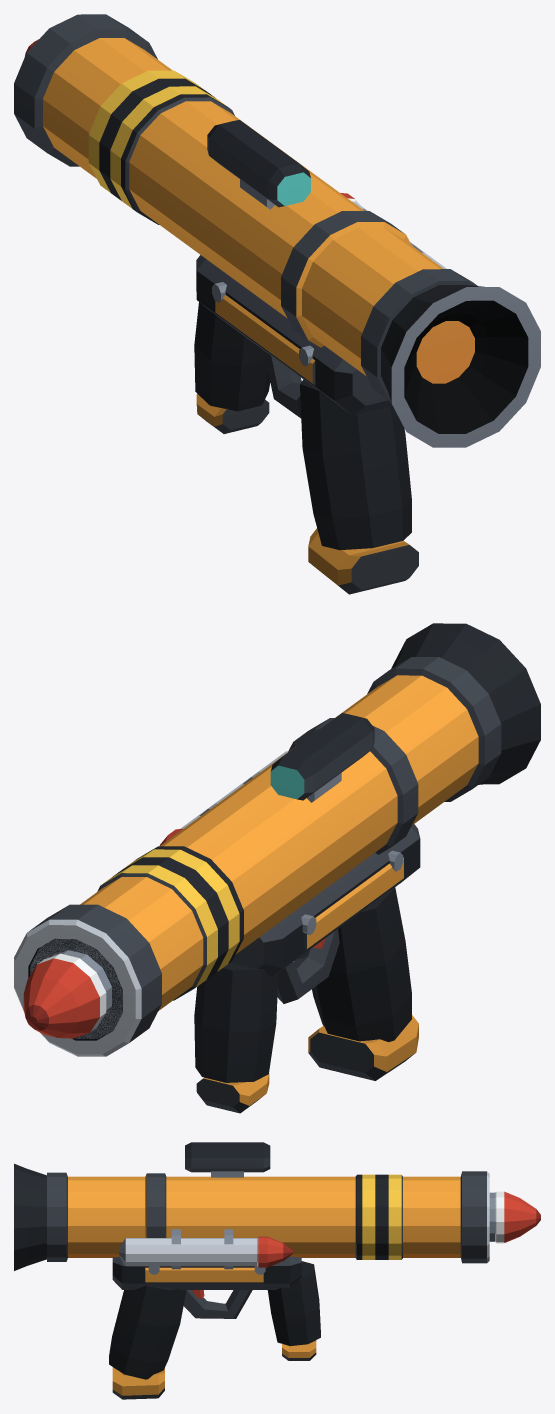
The model's file is RocketLauncher.fbx.
3 renders of one model, top to bottom at view 1: azimuth 30°, elevation 25°; view 2: azimuth 150°, elevation 25°; view 3: azimuth 270°, elevation 25°, orthographic. The views are drawn at different scales.
Visible parts, largest first — view 1: LaunchTube, Exhaust, Grip, ForeGrip, Body, Sight, GripHeel, SidePlate, Guard; view 2: LaunchTube, ForeGrip, Grip, Exhaust, Mouth, Warhead, Body, Sight, GripHeel, SidePlate, Guard; view 3: LaunchTube, Grip, SpareRocket, ForeGrip, Exhaust, Body, Sight, Warhead, SidePlate, Guard, GripHeel, SpareClamps.
Boxes of the visible parts, x1,y1,x2,y2 form: LaunchTube: [14, 14, 477, 401]; Exhaust: [381, 285, 540, 447]; Grip: [300, 379, 411, 550]; ForeGrip: [194, 302, 270, 433]; Body: [196, 255, 392, 415]; Sight: [207, 120, 310, 207]; GripHeel: [308, 528, 418, 594]; SidePlate: [215, 295, 315, 385]; Guard: [263, 350, 301, 418]; LaunchTube: [27, 657, 501, 1042]; ForeGrip: [194, 962, 278, 1113]; Grip: [312, 886, 411, 1042]; Exhaust: [391, 623, 540, 784]; Mouth: [14, 919, 141, 1056]; Warhead: [23, 950, 111, 1038]; Body: [230, 824, 420, 977]; Sight: [270, 713, 374, 800]; GripHeel: [308, 1015, 418, 1080]; SidePlate: [304, 858, 403, 950]; Guard: [277, 929, 339, 1003]; LaunchTube: [47, 1171, 486, 1263]; Grip: [109, 1285, 186, 1379]; SpareRocket: [119, 1236, 292, 1267]; ForeGrip: [267, 1261, 320, 1360]; Exhaust: [14, 1163, 46, 1270]; Body: [112, 1256, 301, 1289]; Sight: [185, 1142, 270, 1172]; Warhead: [489, 1191, 540, 1243]; SidePlate: [145, 1267, 263, 1283]; Guard: [183, 1290, 252, 1318]; GripHeel: [112, 1367, 164, 1399]; SpareClamps: [171, 1229, 233, 1269].
Size of the model in its own units: 0.1848 by 0.397 by 0.802.
1 material, 1 textured.
